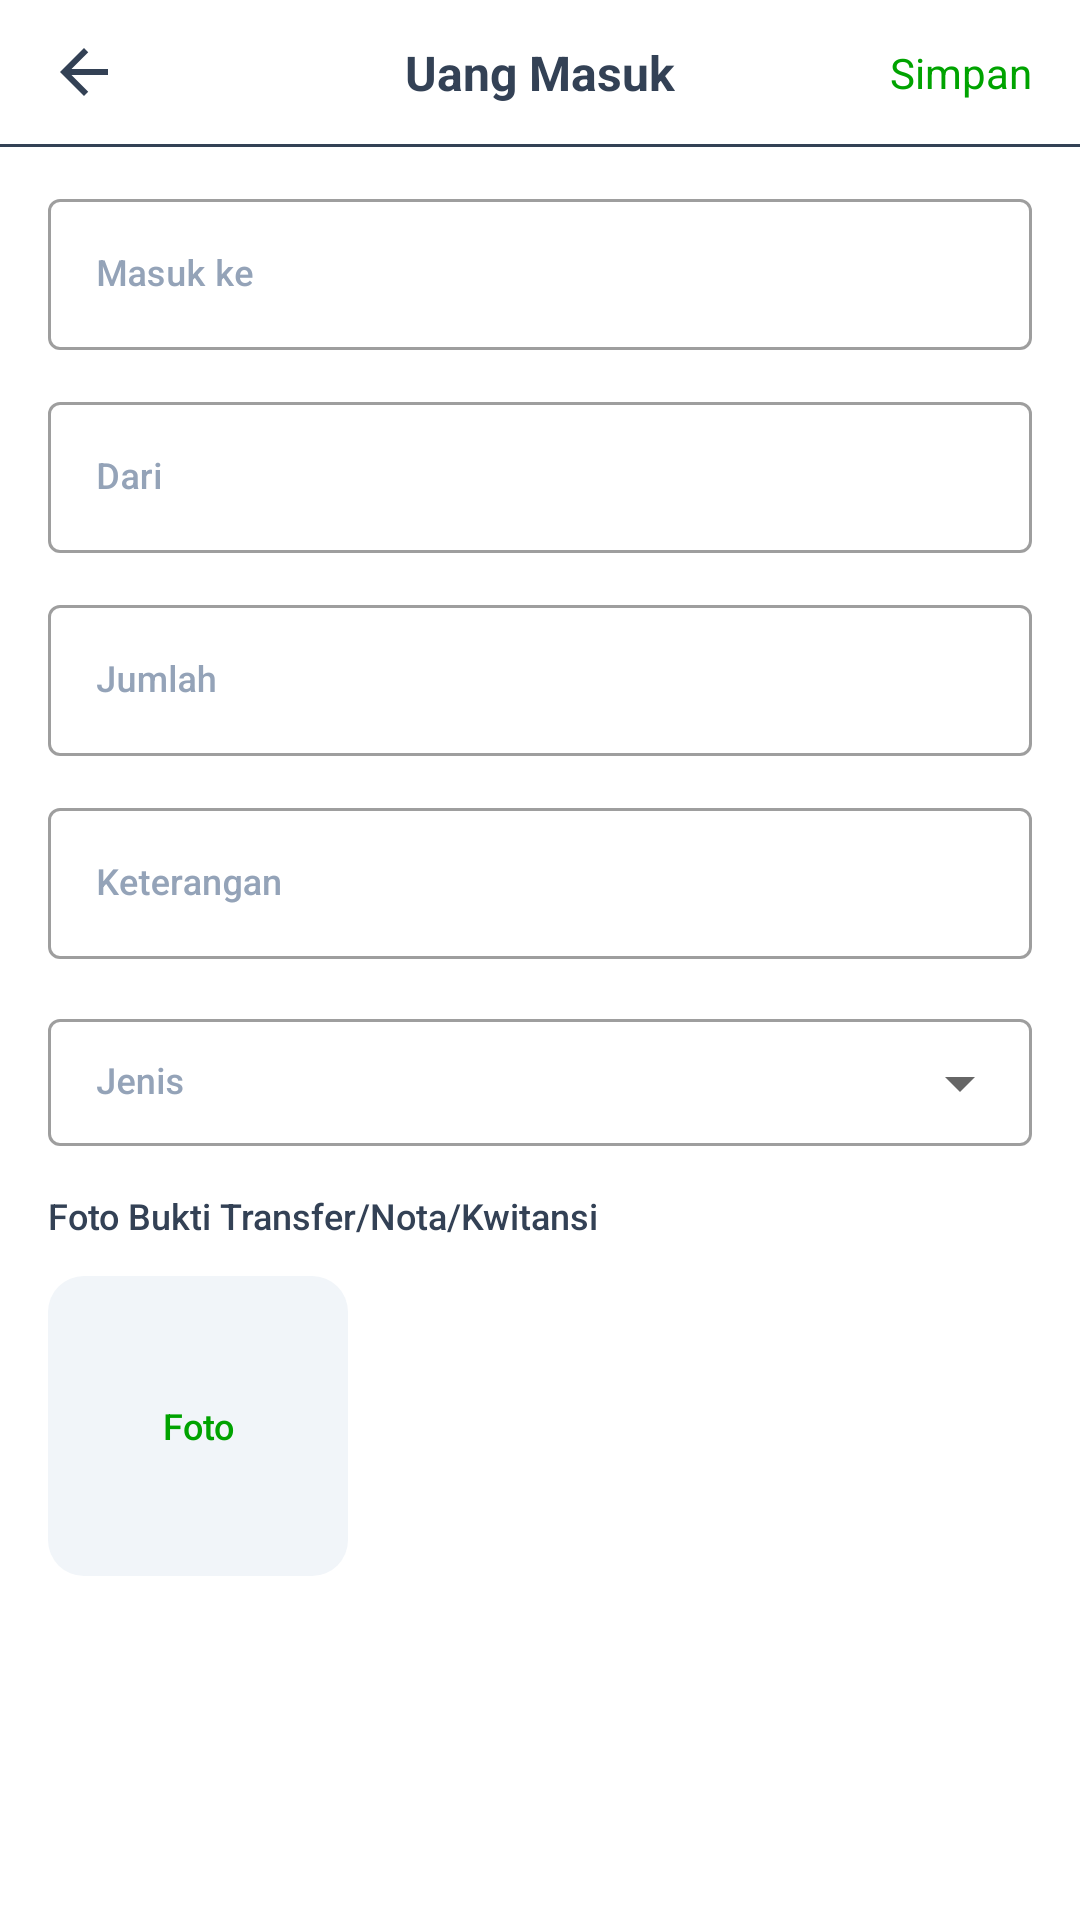

Named icons in this screenshot (1080x1920) and their bounding boxes, {"left": x1, "top": y1, "right": x2, "bottom": y2}:
Button Back: {"left": 60, "top": 48, "right": 108, "bottom": 96}
